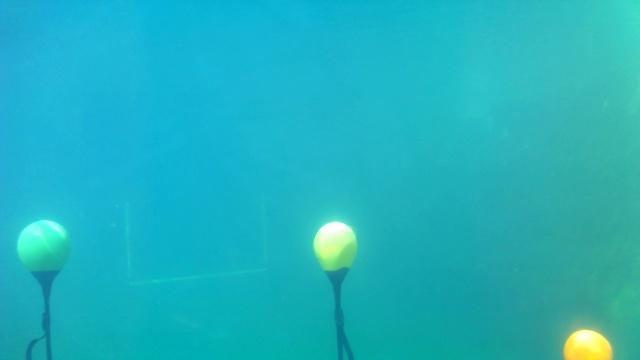buoy_green: (13, 213, 74, 293)
channel: (122, 192, 267, 285)
